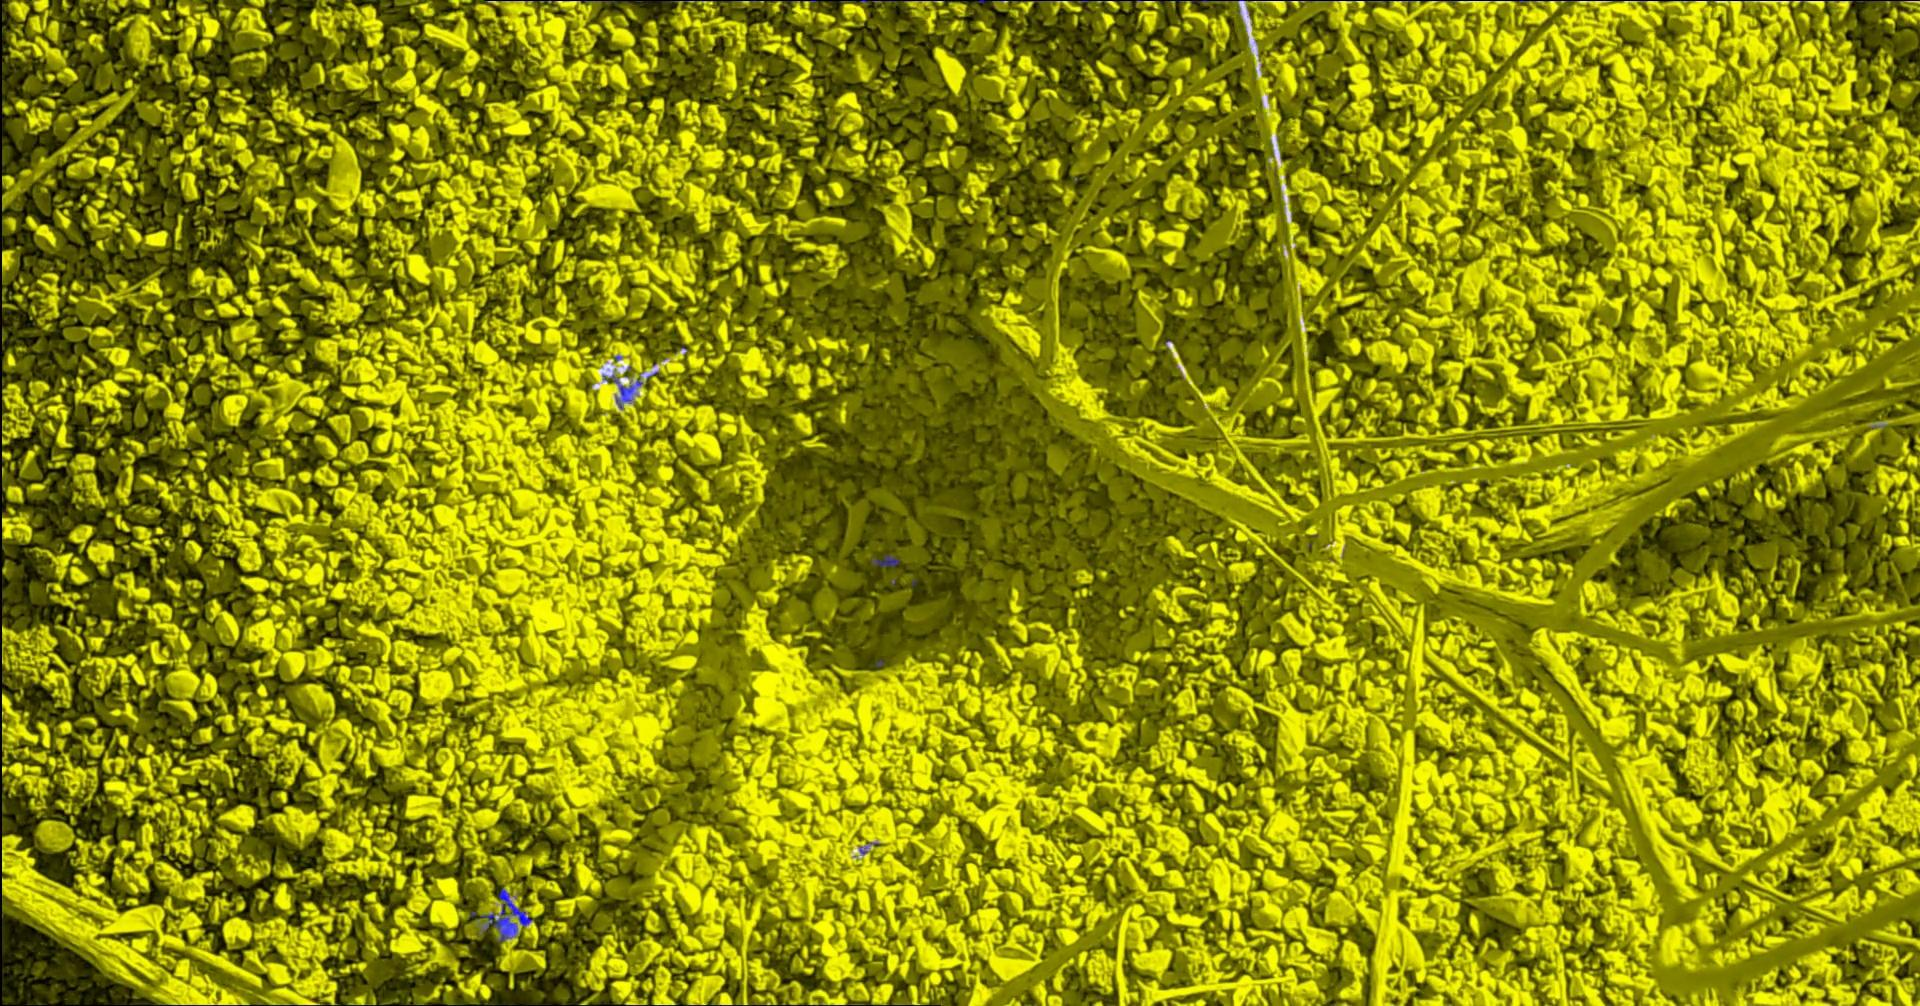ant: (479, 888, 531, 942), (602, 373, 643, 408), (871, 554, 899, 567), (1850, 0, 1900, 3)
